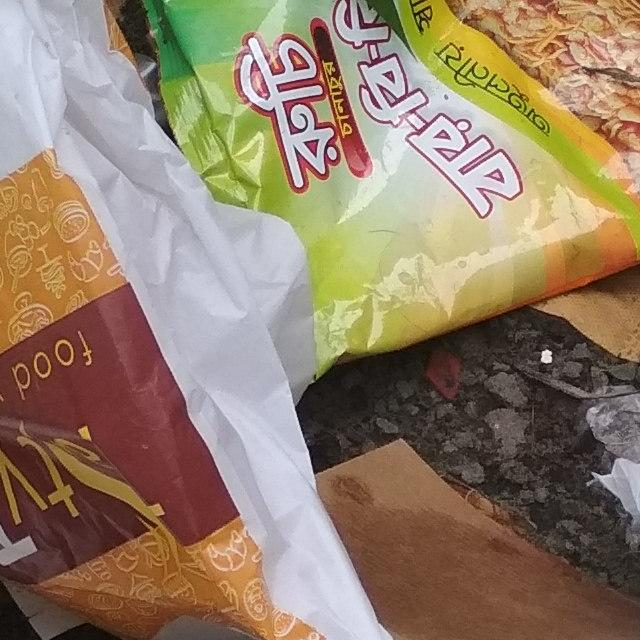plastic: (0, 0, 640, 640), (110, 0, 640, 396)
